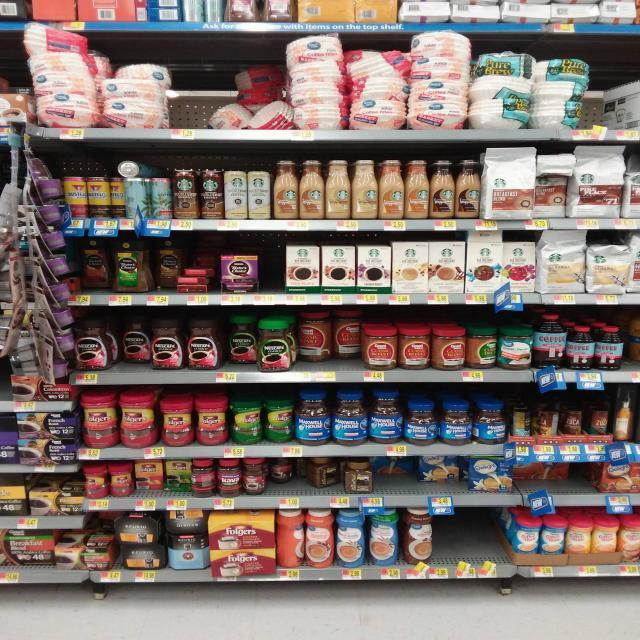empty: (171, 68, 209, 139), (478, 509, 504, 578), (260, 238, 283, 304), (434, 515, 456, 579), (457, 508, 477, 578), (586, 85, 604, 139), (570, 463, 590, 506)
